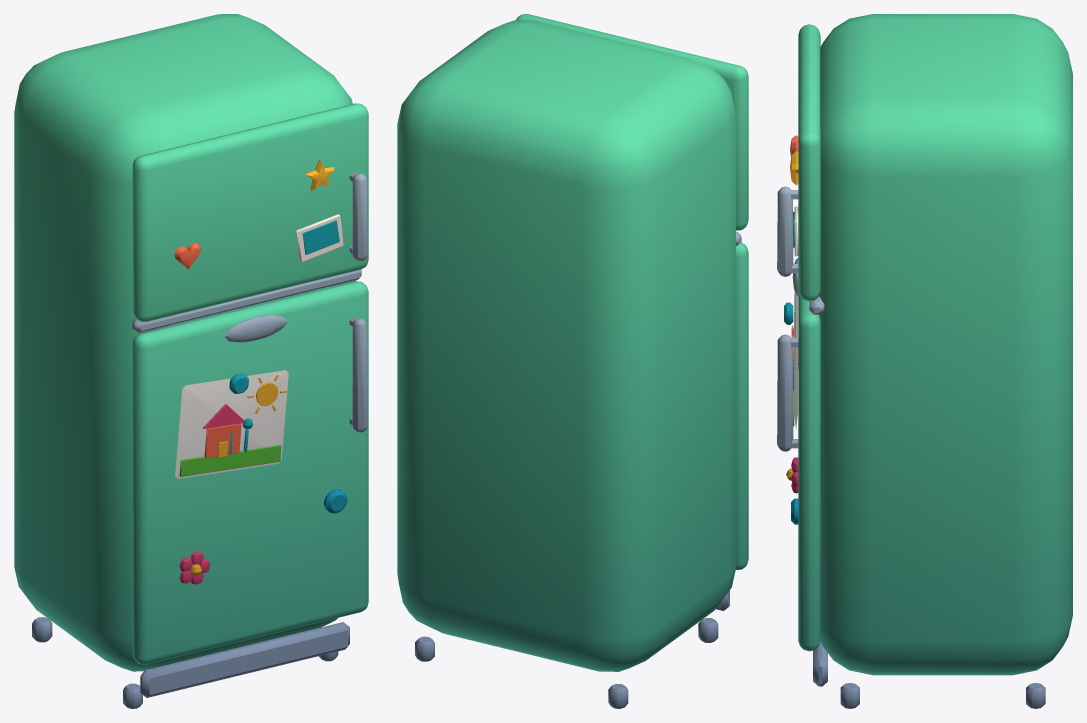
The model's file is fridge.glb.
3 renders of one model, left to right at view 1: azimuth 30°, elevation 25°; view 2: azimuth 150°, elevation 25°; view 3: azimuth 270°, elevation 25°, orthographic. The views are drawn at different scales.
Visible parts, largest first — view 1: fridge; view 2: fridge; view 3: fridge.
Boxes of the visible parts, box(x1,y1,x2,y2) form: fridge: box(14, 14, 368, 708); fridge: box(397, 14, 748, 708); fridge: box(777, 14, 1072, 708).
Bounding box in the file's own units: 0.82 × 1.78 × 0.7971.
